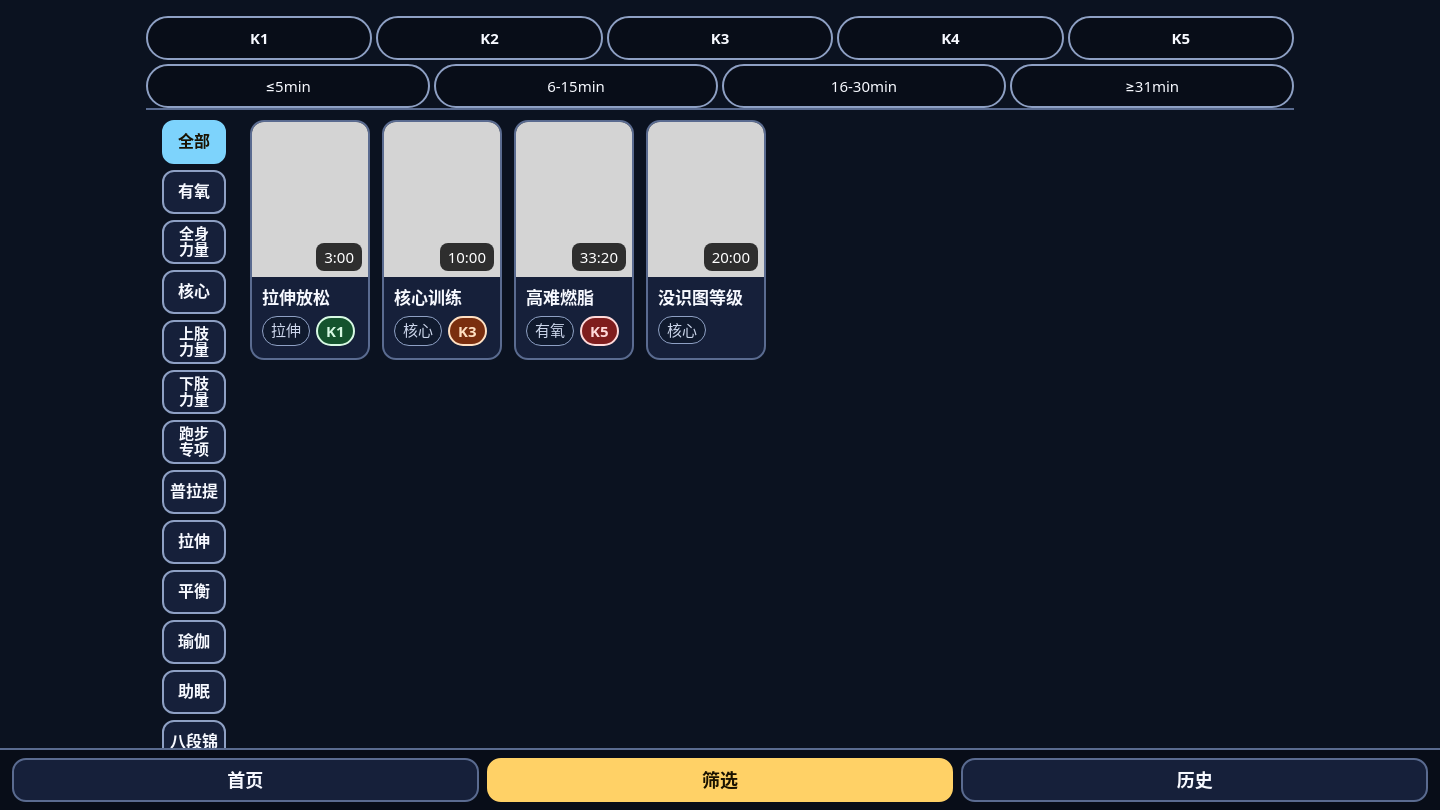
Test case: Find · 等级筛选（K1–K5） › level 为 null 的视频不命中任何等级（点 K2/K4 都不会出现「没识图等级」）
Expected: the element named "筛选结果" is shown, x1=250 y1=120 x2=766 y2=360
Click the button "K2". click: x=490, y=38
box: x1=376 y1=16 x2=603 y2=60
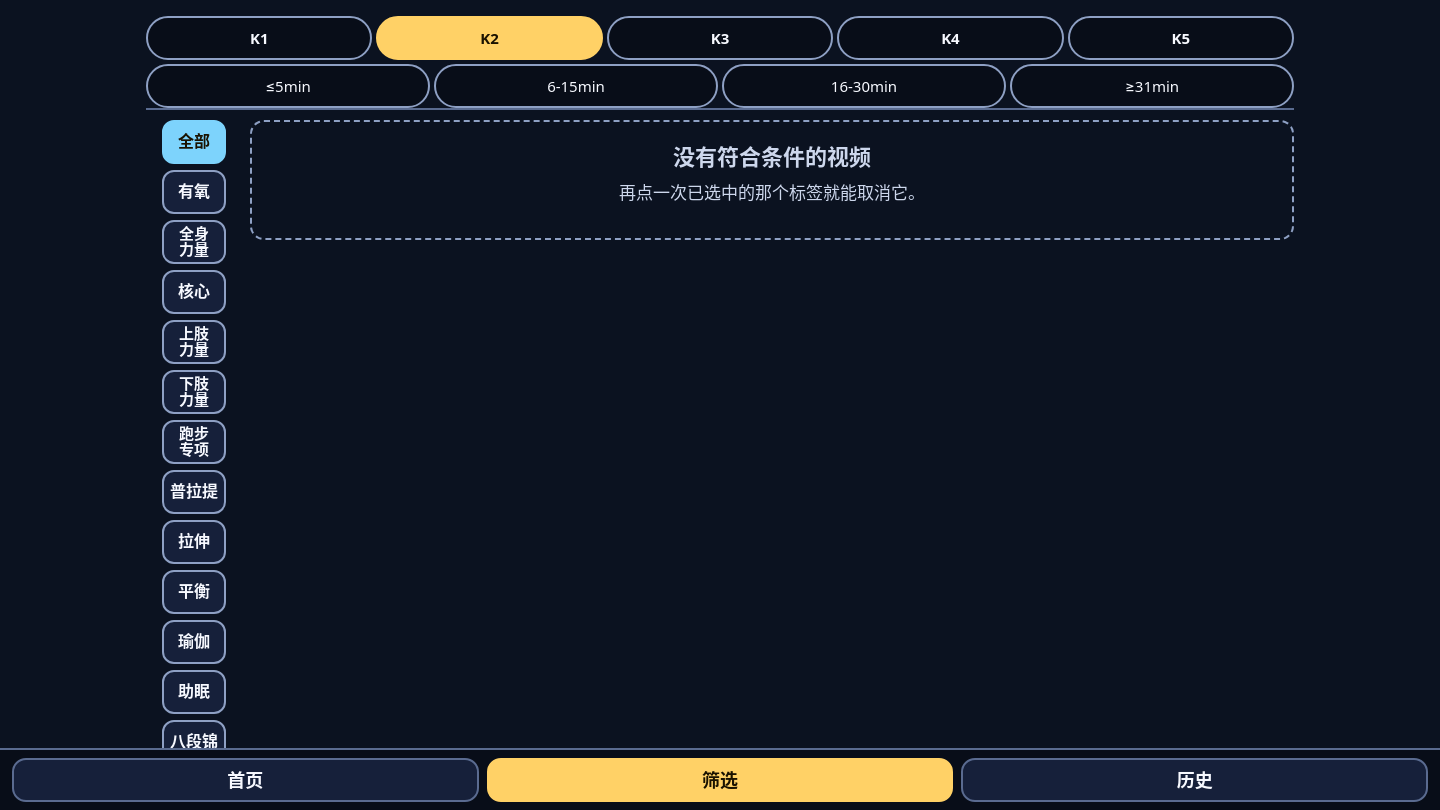
Expected: the heading "没有符合条件的视频" is shown, x1=673 y1=141 x2=871 y2=171
Expected: the link "没识图等级" is gone
Click the button "K2". click: x=490, y=38
box: x1=376 y1=16 x2=603 y2=60
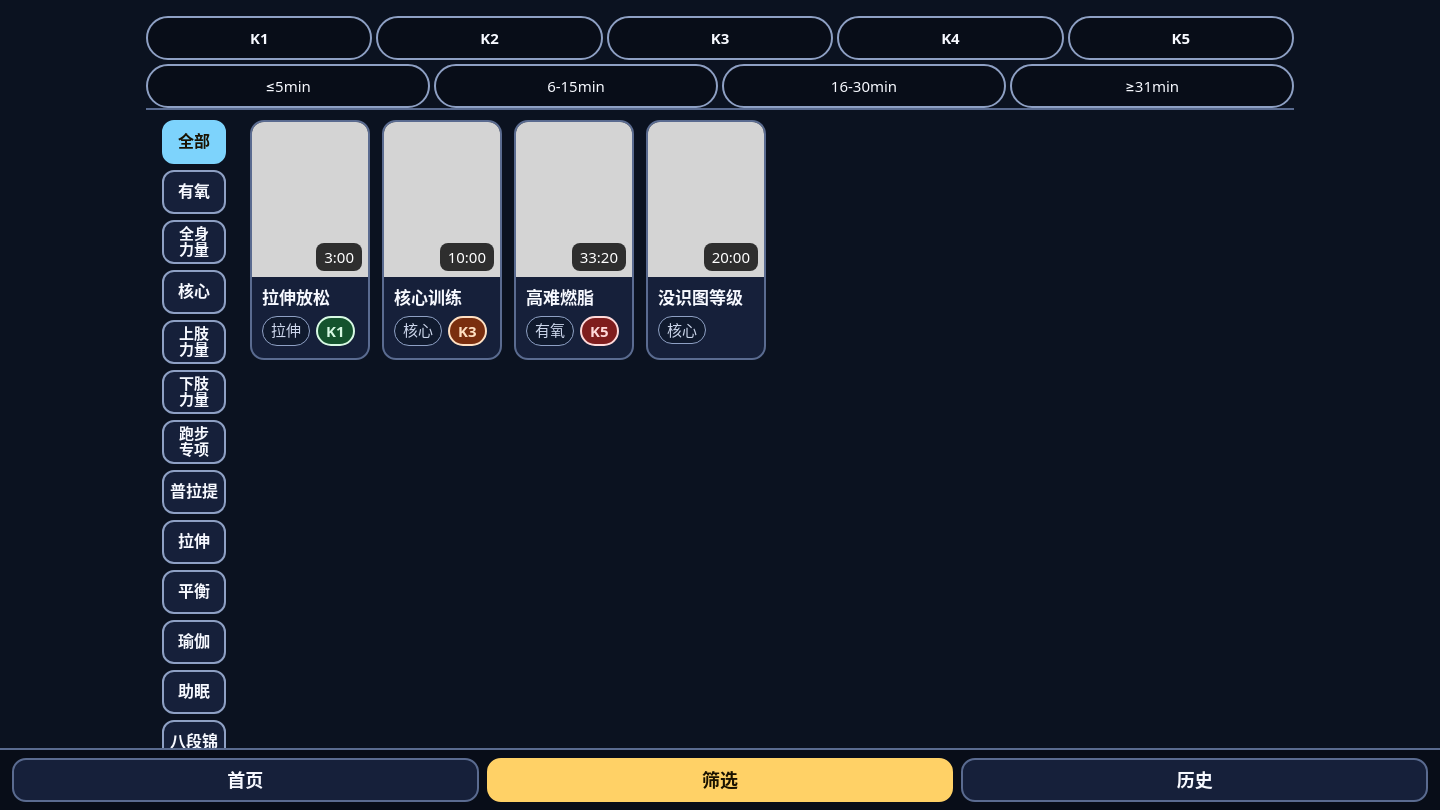
Click the button "K4". click: x=950, y=38
box: x1=837 y1=16 x2=1064 y2=60
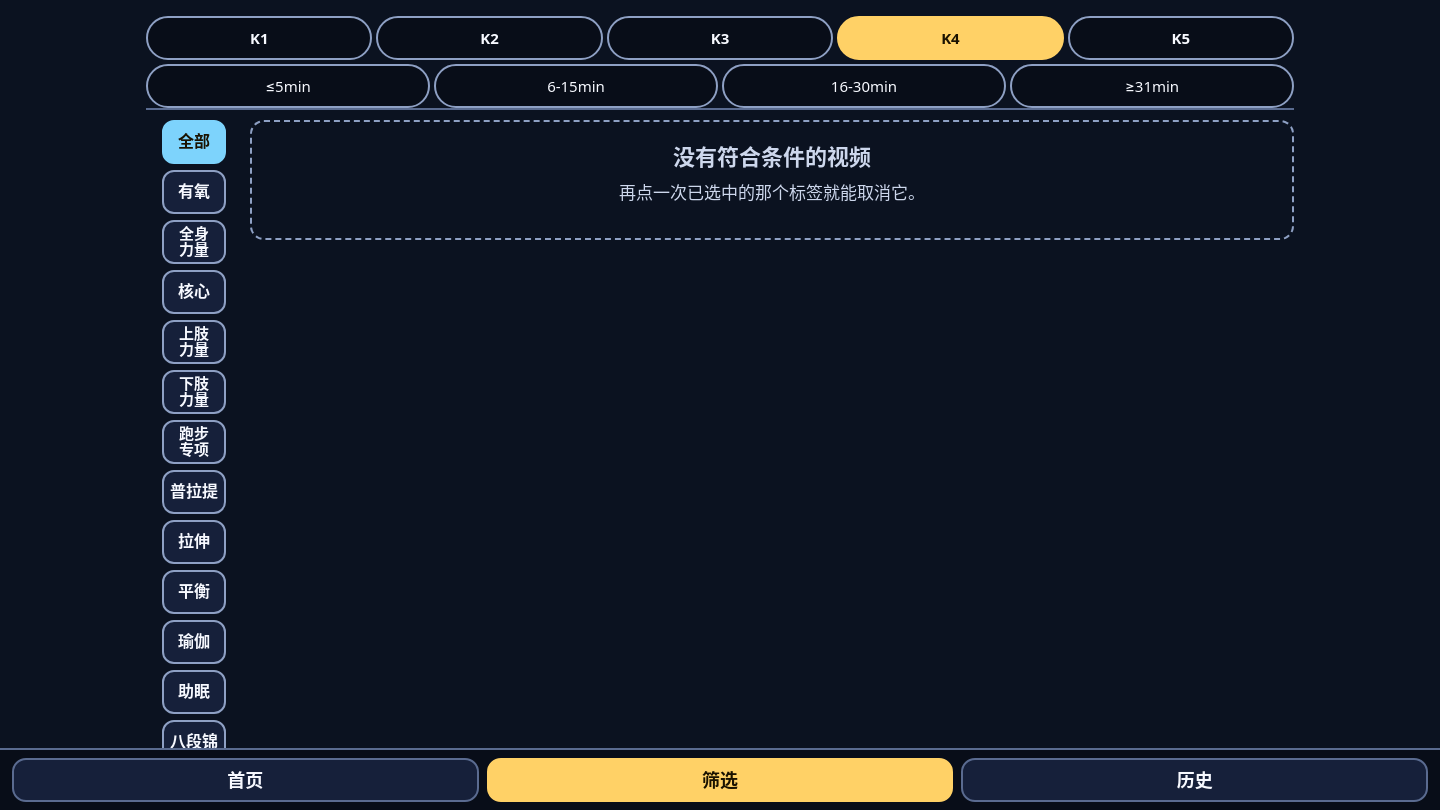
Expected: the link "没识图等级" is gone
Click the button "K4". click: x=950, y=38
box: x1=837 y1=16 x2=1064 y2=60
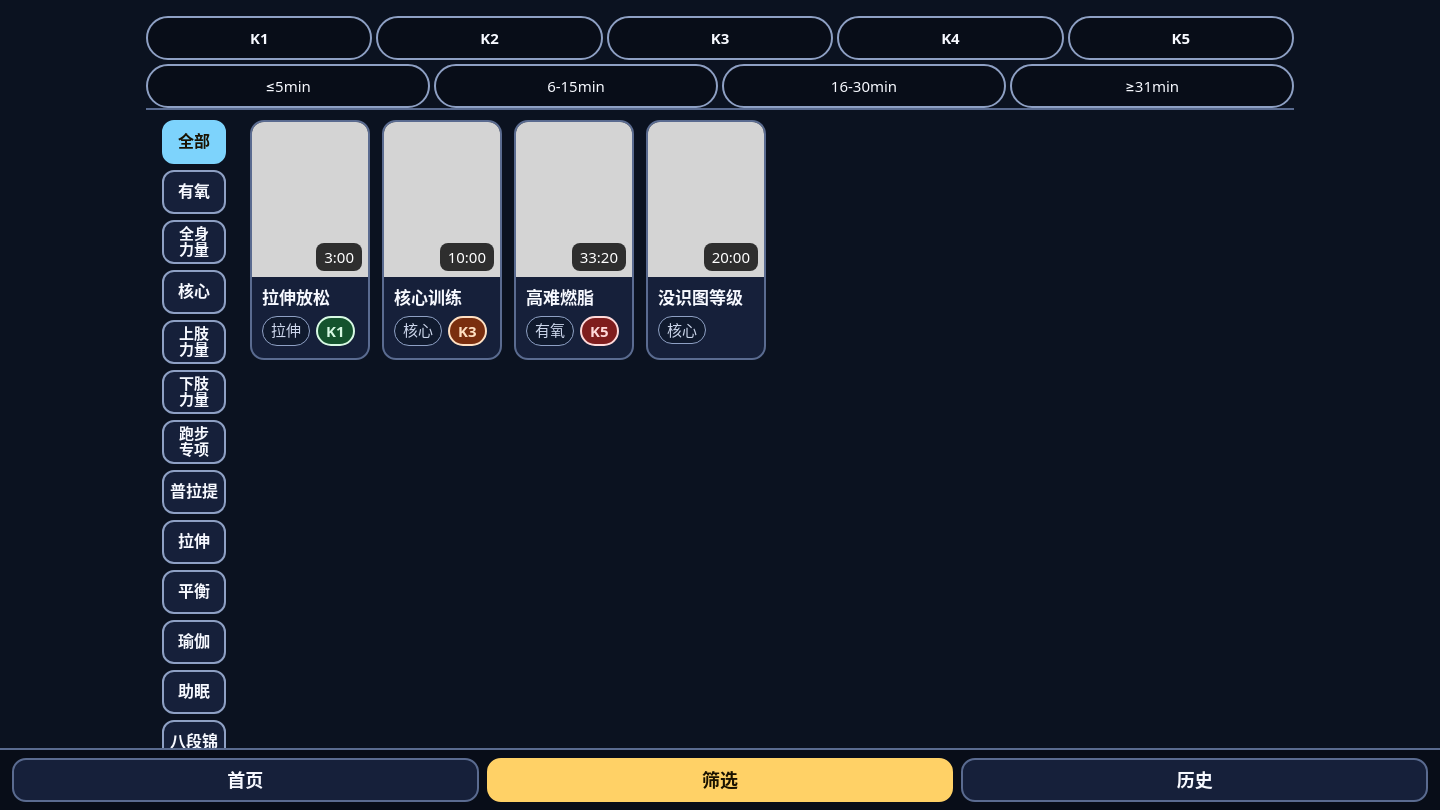
Expected: the text "没识图等级" is shown, x1=658 y1=287 x2=754 y2=310
